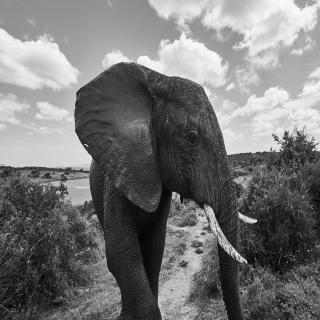Elephant: (70, 60, 257, 318)
